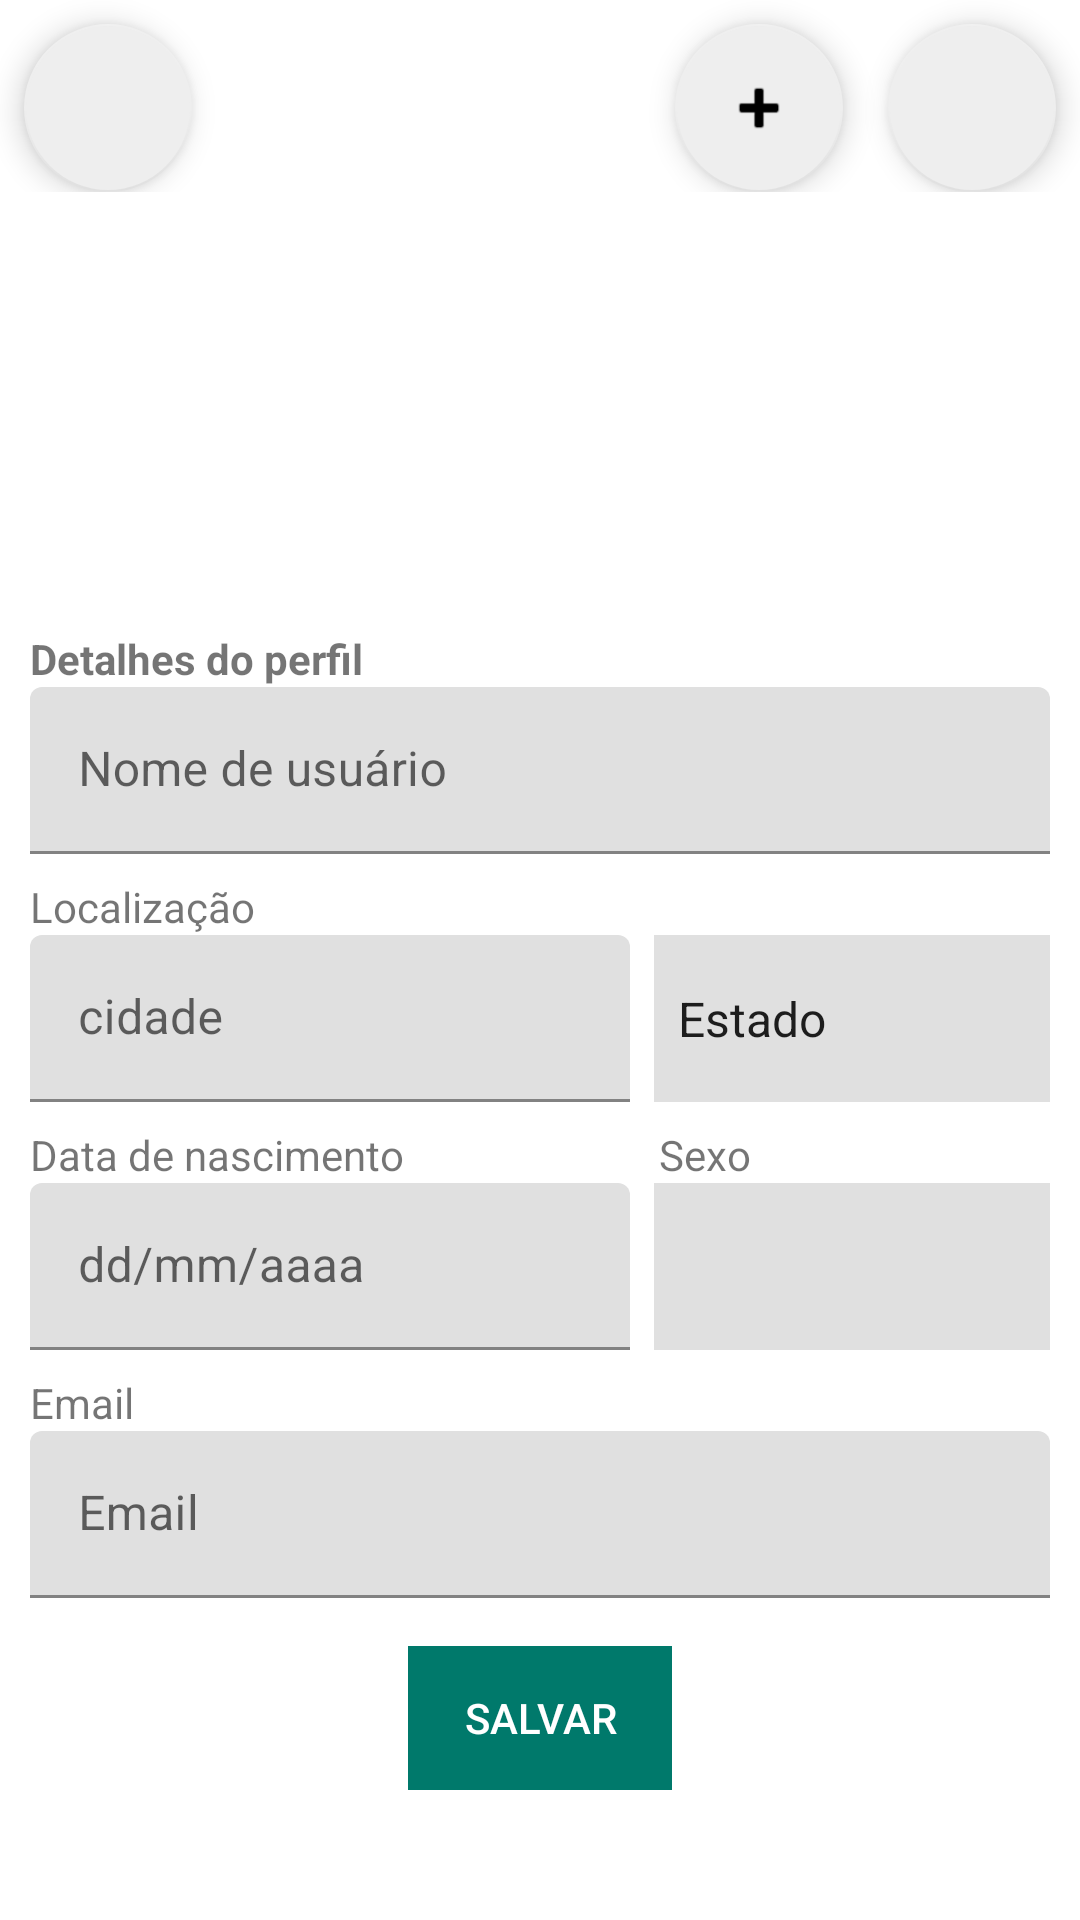

Where to tap for icons on this 1080 × 1920 app screen, as (x,y):
add: (759,108)
